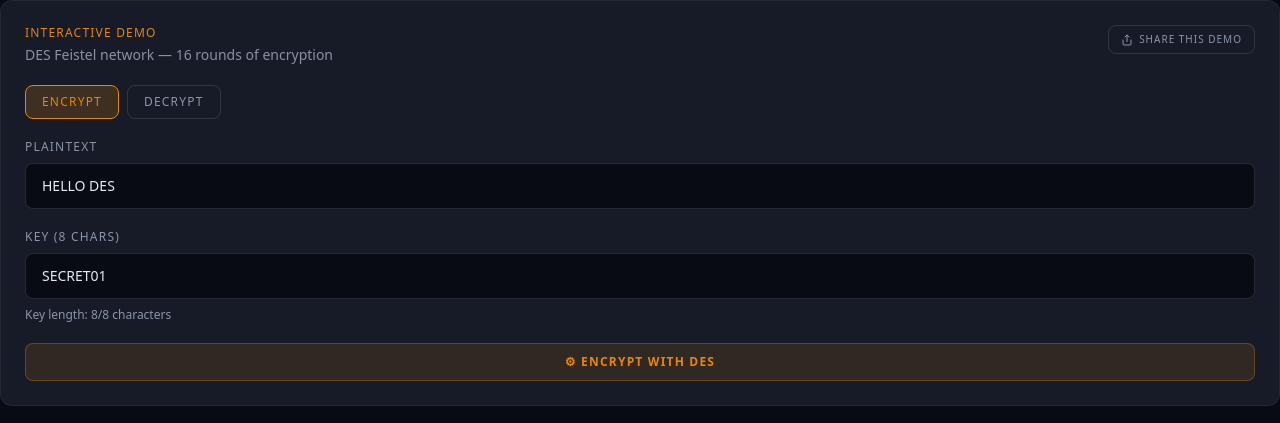
Test: DESDemo › disables run button when inputs are empty
Clear the field with test id "des-input" at point(640, 186), box x1=25 y1=163 x2=1255 y2=209
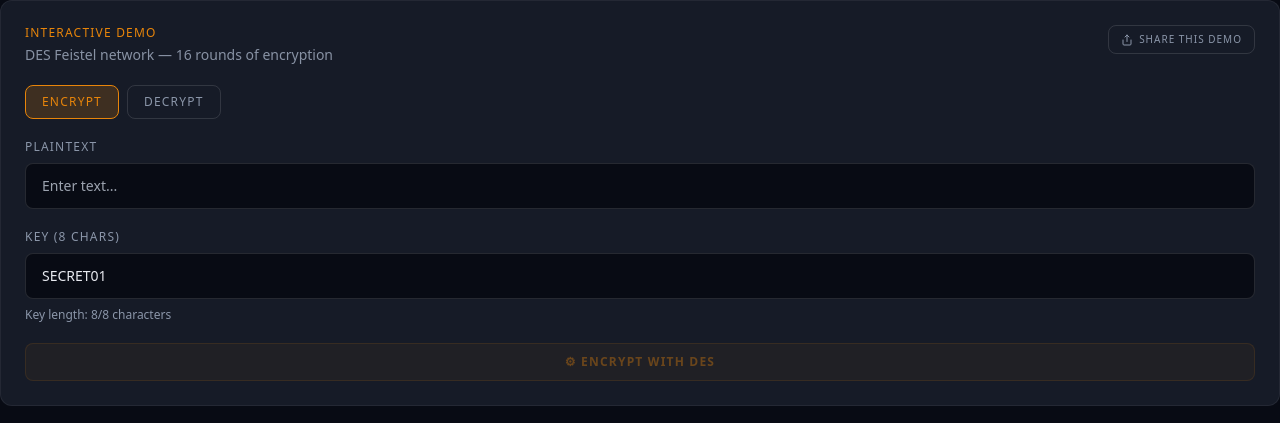
Expected: the button with test id "des-run-btn" is disabled, x1=25 y1=343 x2=1255 y2=381
